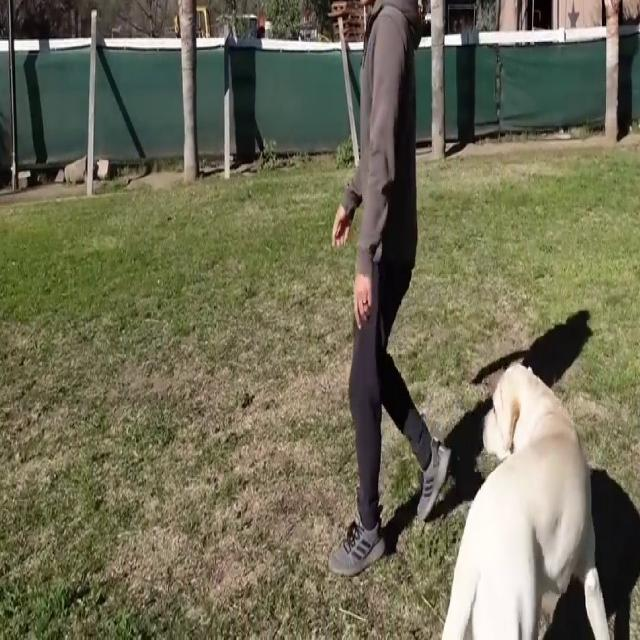Unleashed_Dog: (348, 363, 612, 640)
